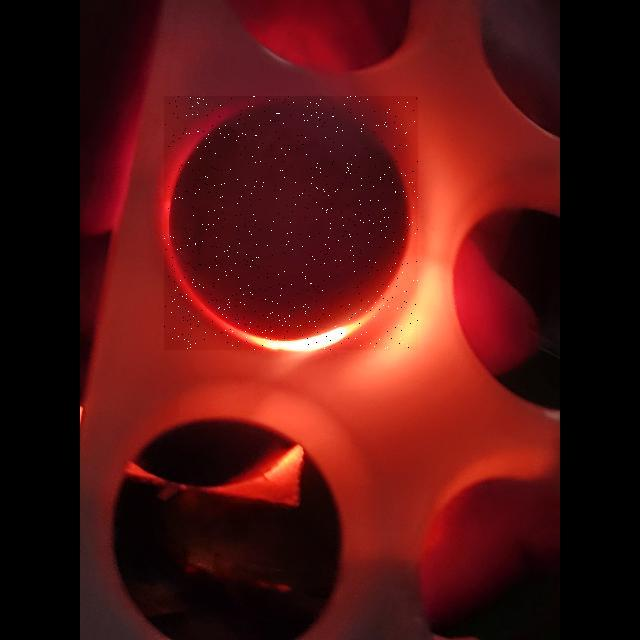Fertile: (164, 96, 418, 350)
